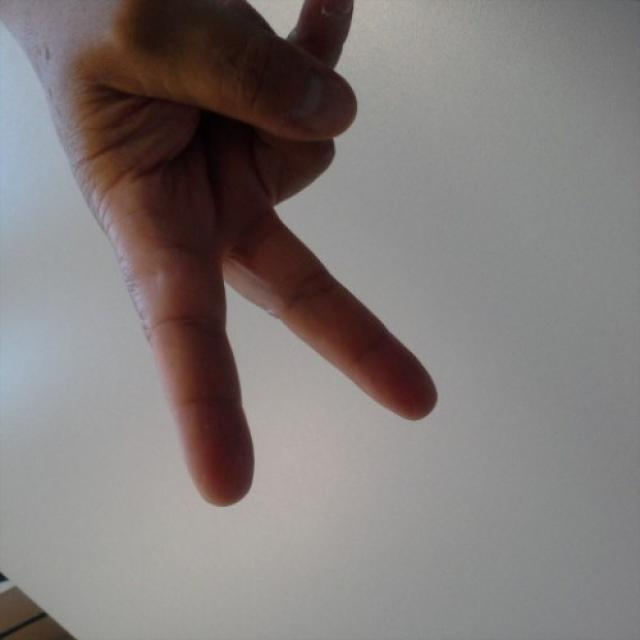scissors: (3, 4, 461, 506)
